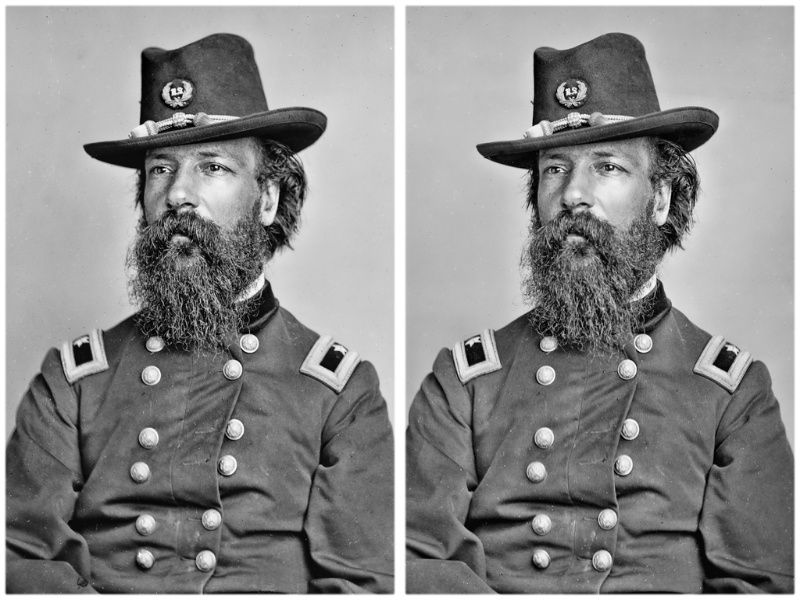person: (5, 39, 394, 592), (407, 40, 791, 600)
